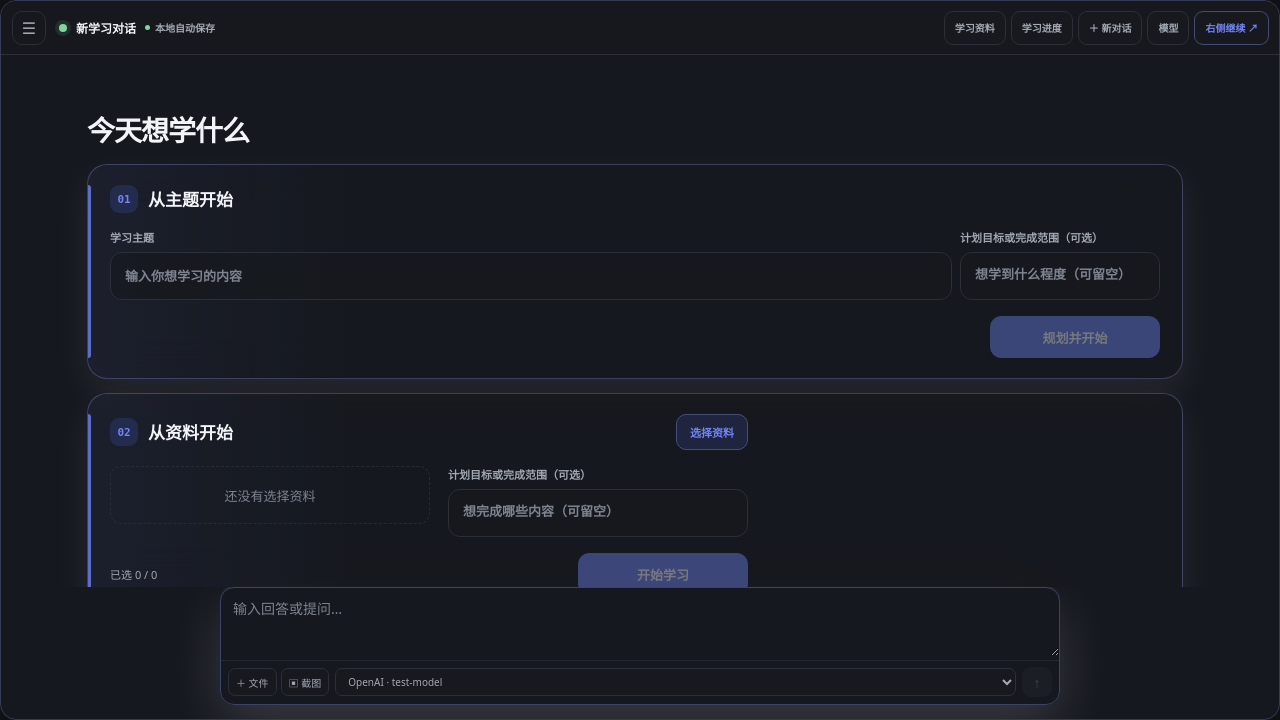
does not silently use the whole library when no learning source mode was chosen
Check: the button with aria-label "从这些资料开始" is disabled, box [578, 553, 748, 587]
In the text box named "学习回答": x=640, y=622 [221, 588, 1059, 656], type "直接开始讲矩阵"
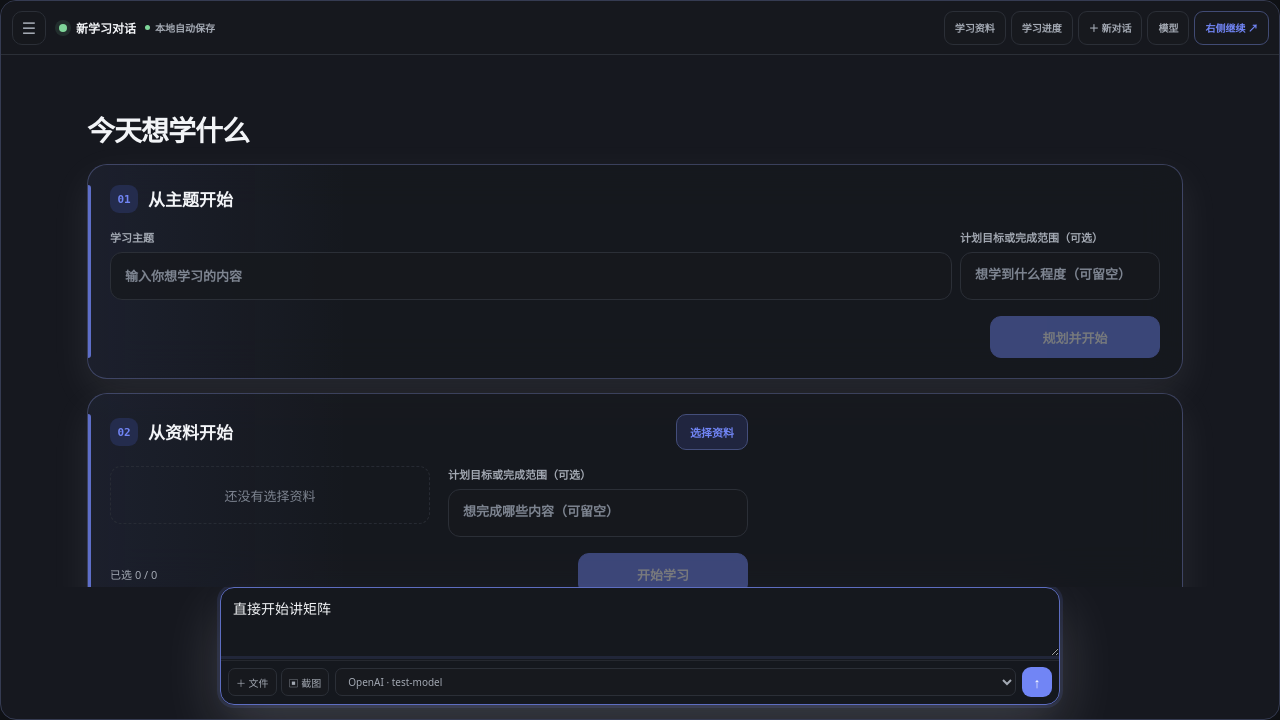
Click the button named "发送给 PILOT": x=1037, y=682 [1022, 667, 1052, 697]
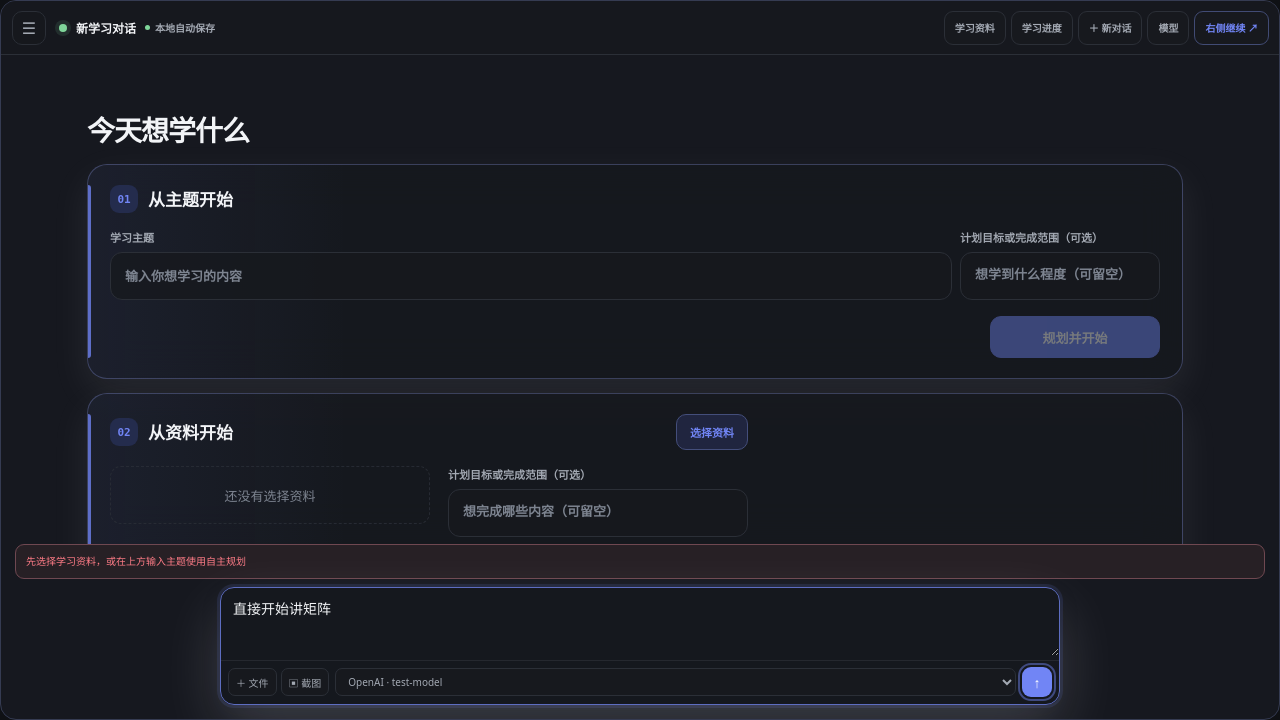
Check: the message reads "先选择学习资料，或在上方输入主题使用自主规划", box [26, 554, 246, 568]
